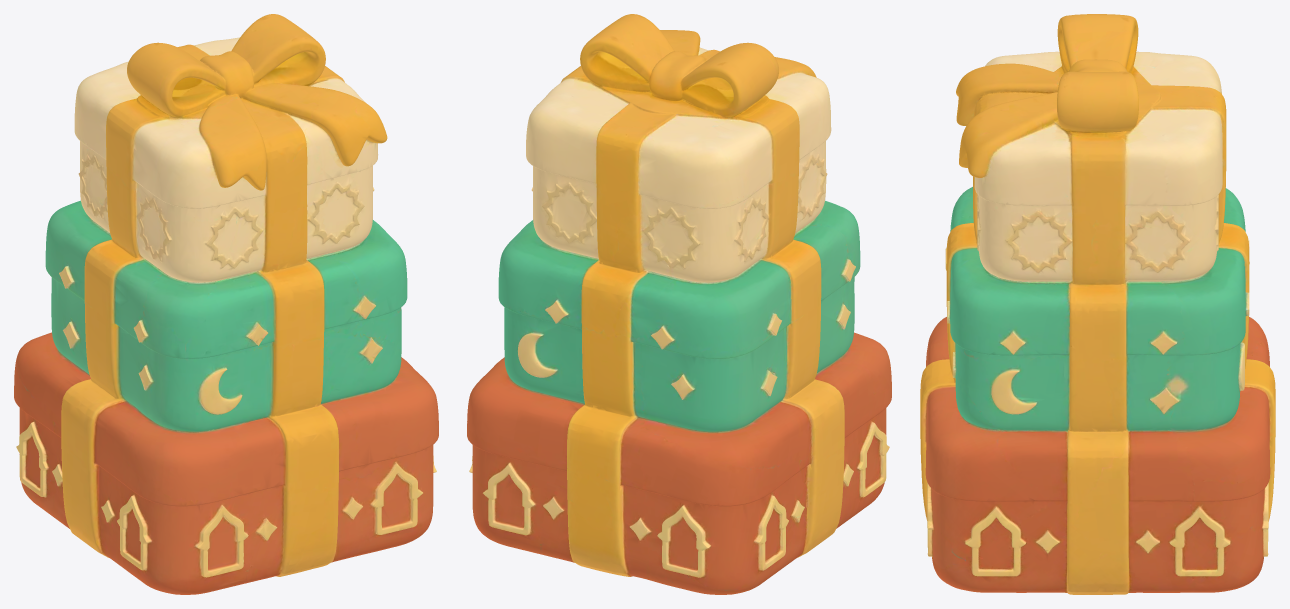
File: Meshy_AI_model.glb
3 renders of one model, left to right at view 1: azimuth 30°, elevation 25°; view 2: azimuth 150°, elevation 25°; view 3: azimuth 270°, elevation 25°, orthographic.
Visible parts, largest first — view 1: mesh_node; view 2: mesh_node; view 3: mesh_node.
Boxes of the visible parts, x1,y1,x2,y2 form: mesh_node: [14, 14, 438, 594]; mesh_node: [467, 14, 891, 594]; mesh_node: [920, 14, 1275, 594].
Size of the model in its own units: 1.25 by 1.9 by 1.25.
Materials: 1 (1 with a texture image).
